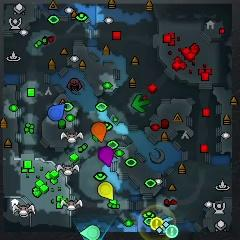Other: (150, 217, 163, 231), (166, 225, 179, 239)
p1: (48, 103, 65, 121)
p2: (80, 225, 101, 240)
p3: (98, 147, 114, 167)
p4: (98, 182, 114, 200)
p5: (91, 122, 107, 143)
x3: (160, 217, 173, 234)
x4: (132, 94, 151, 112)
